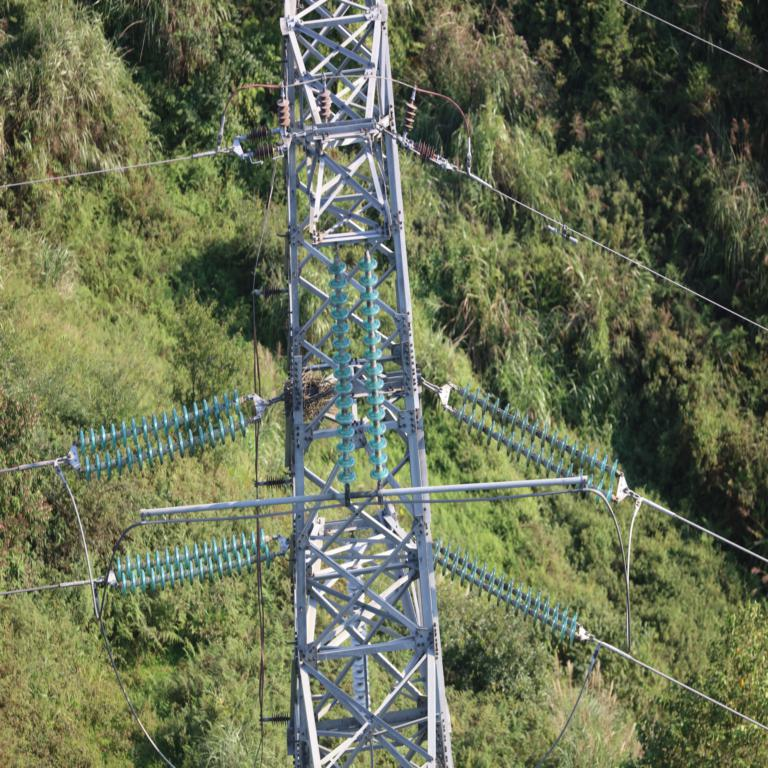nest: (287, 372, 333, 418)
